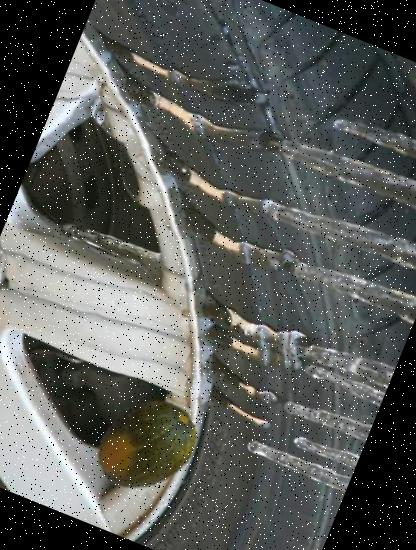Melon: (76, 370, 214, 508)
